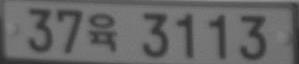1: (209, 14, 231, 57), (177, 14, 198, 55)
3: (142, 13, 169, 56), (241, 15, 266, 59), (28, 8, 52, 52)
7: (58, 10, 81, 53)
육: (87, 13, 117, 51)
